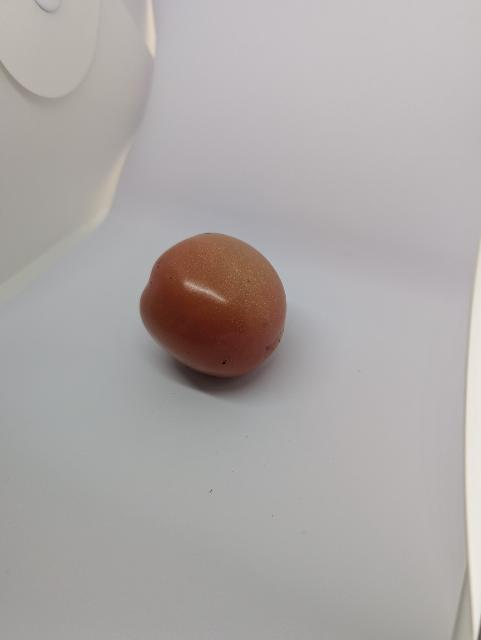red: (116, 222, 316, 390)
